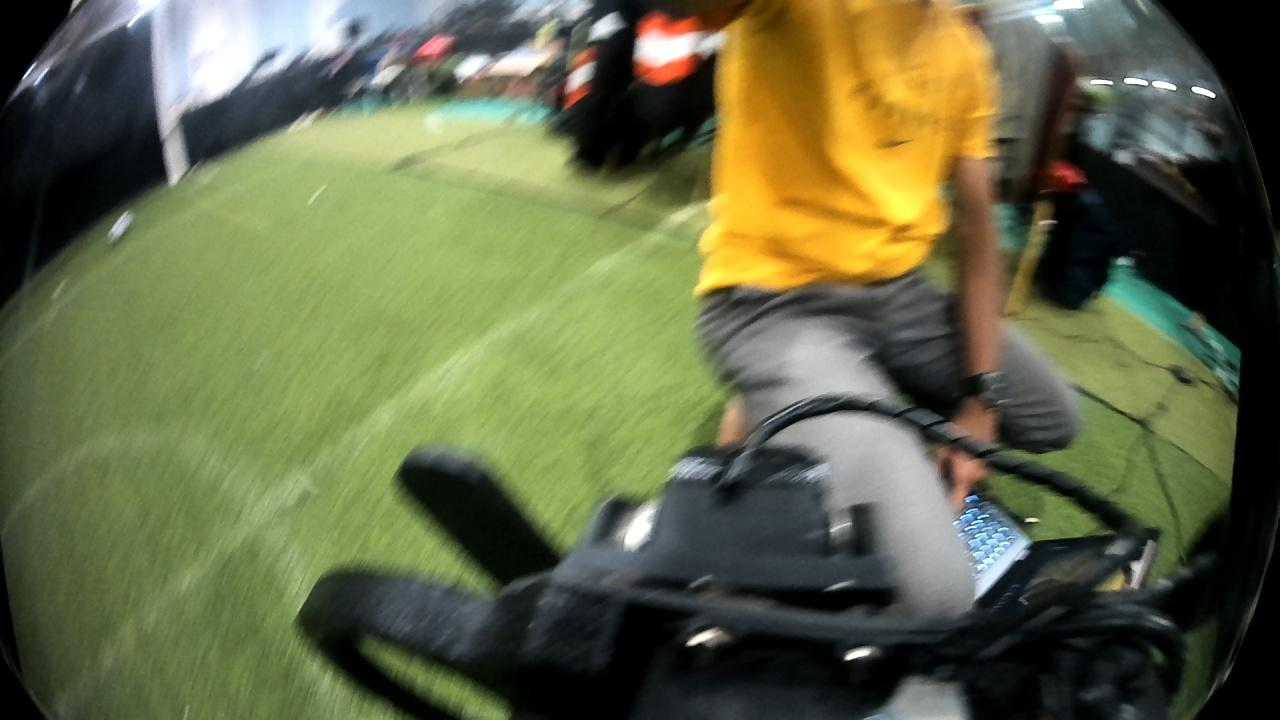ball: (109, 206, 140, 245)
